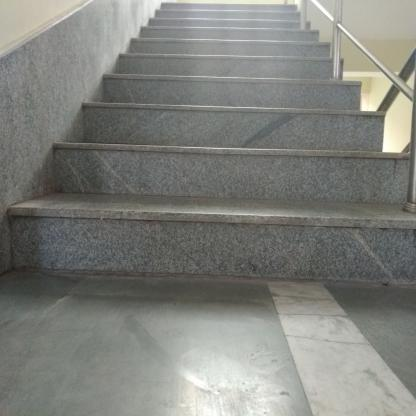stairs: (143, 36, 330, 294)
